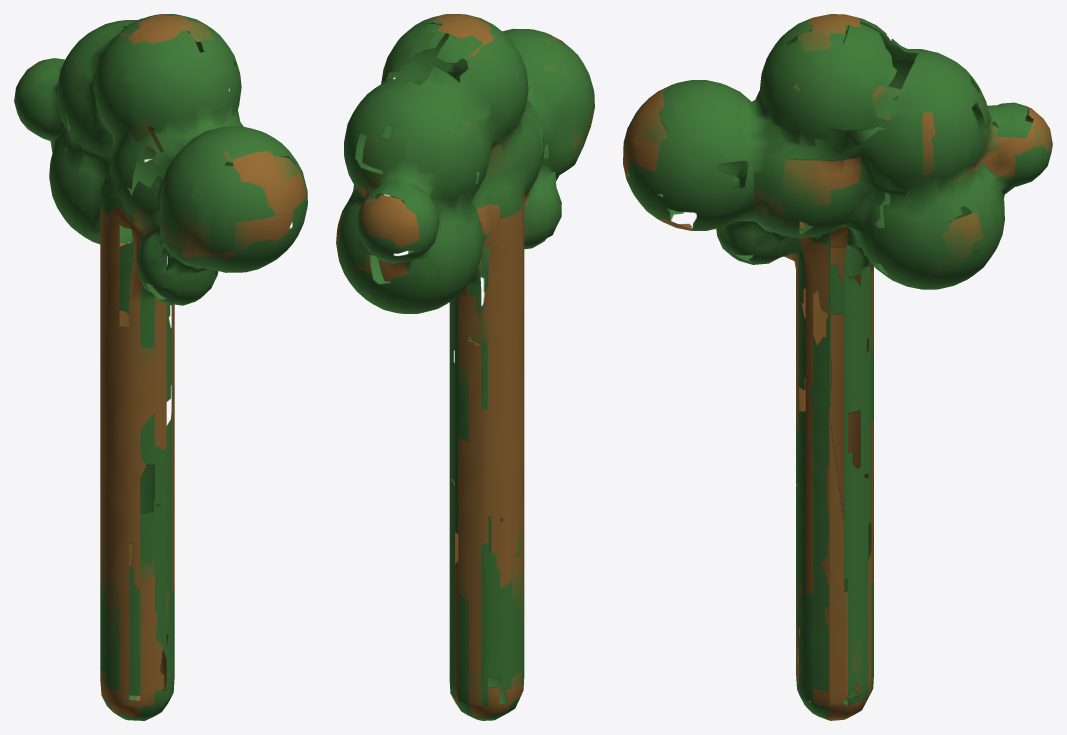
Rendered from forest.glb.
3 views of the same model, side by side, from view 1: azimuth 30°, elevation 25°; view 2: azimuth 150°, elevation 25°; view 3: azimuth 270°, elevation 25° (orthographic). The views are drawn at different scales.
Parts seen in each view (by area): view 1: Area (2); view 2: Area (2); view 3: Area (2).
Part boxes in pixels (box(x1,y1,x2,y2)): Area (2): box(14, 14, 307, 720); Area (2): box(336, 14, 594, 720); Area (2): box(623, 14, 1052, 720).
Size of the model in its own units: 19.69 by 102 by 55.56.
